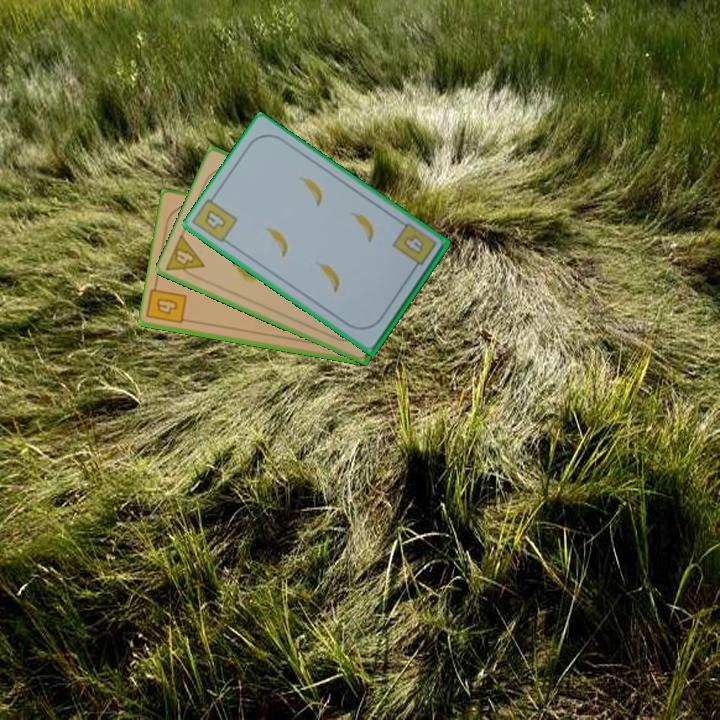4b: (389, 219, 440, 275), (201, 206, 229, 233), (152, 294, 180, 318)
4p: (162, 231, 208, 283)
